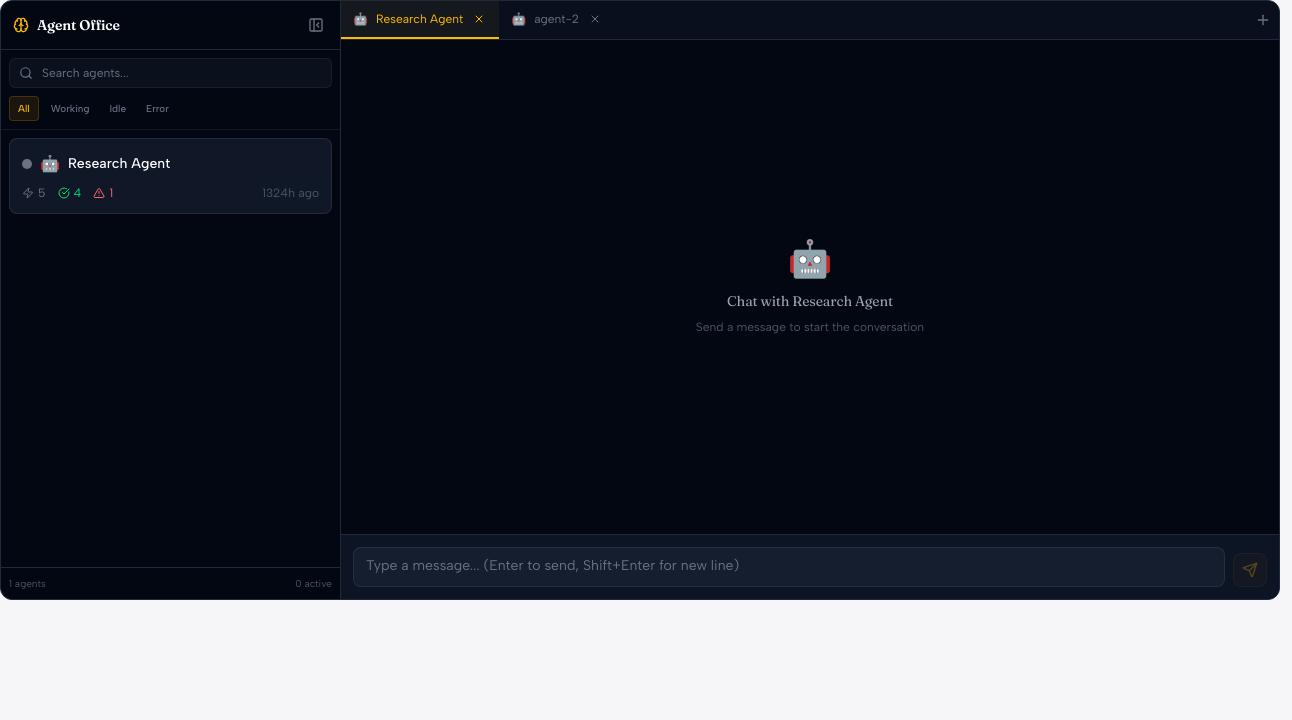
Test: CommandCenter â€” tab management › switches the active tab when its header is clicked
Expected: the text "Send a message to start the conversation" is shown, [696,319,924,335]
// Click the second tab's header label (not its close button)
Click the text "agent-2": (556, 19) [534,11,579,27]
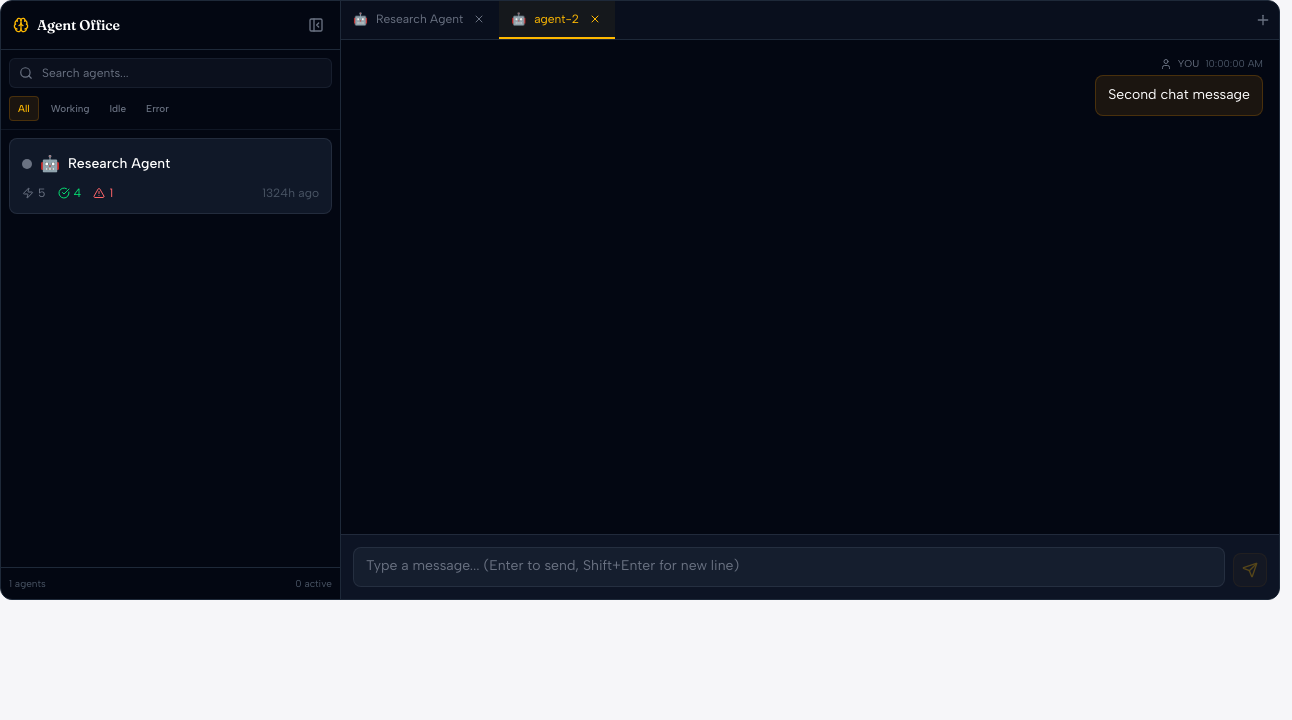
Expected: the text "Second chat message" is shown, [1108,84,1250,107]
